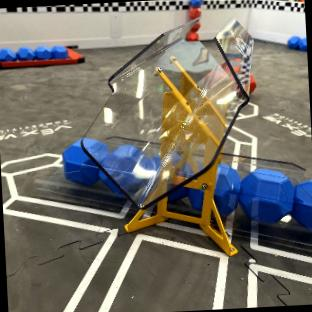Med_goal: (64, 17, 303, 254)
V5_BLUE: (238, 169, 294, 222), (63, 138, 107, 183), (213, 164, 239, 214), (287, 35, 306, 50), (189, 188, 203, 208)
